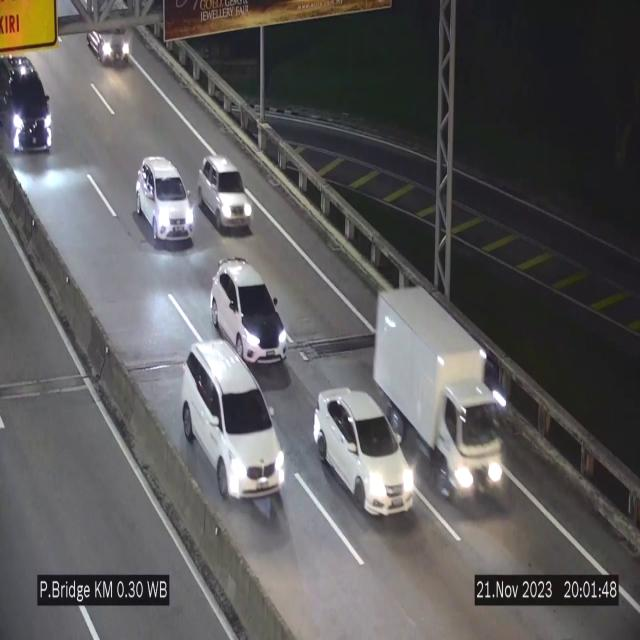Car: (182, 342, 286, 507), (313, 390, 416, 516), (211, 260, 286, 364), (0, 54, 56, 156), (136, 156, 194, 243), (198, 156, 252, 232), (87, 11, 139, 73)
Truck: (372, 286, 506, 500)
